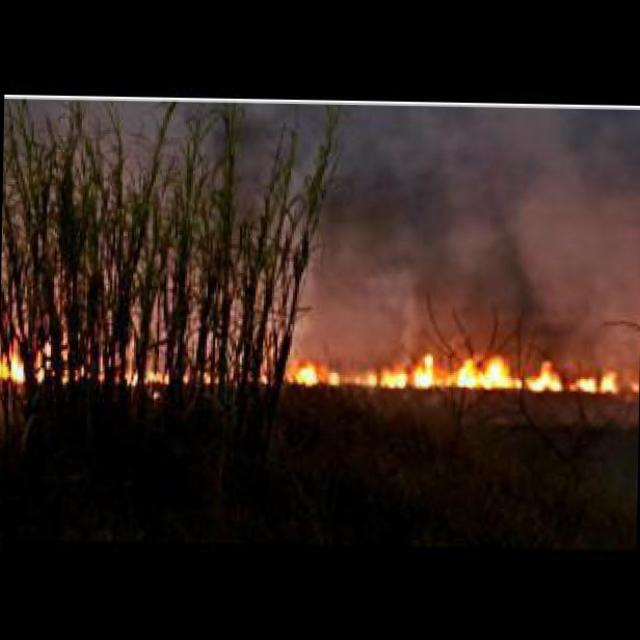fire: (290, 351, 616, 390), (0, 341, 51, 379), (631, 366, 639, 392)
